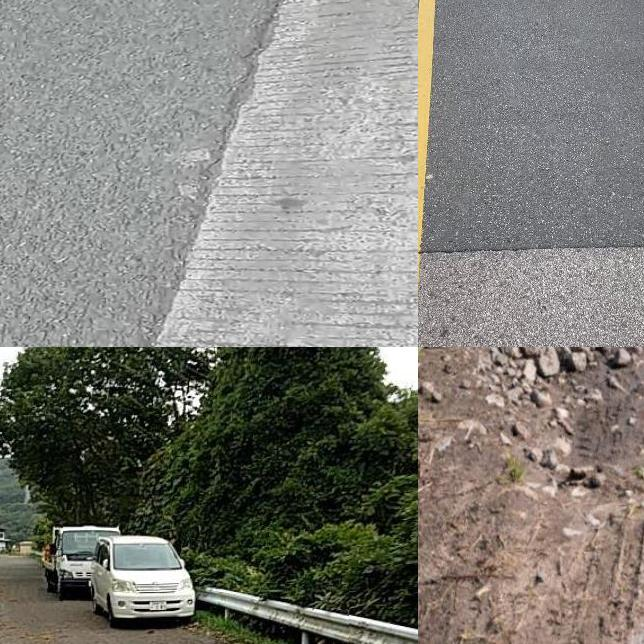Sambungan: (161, 0, 418, 347), (418, 0, 644, 257)
